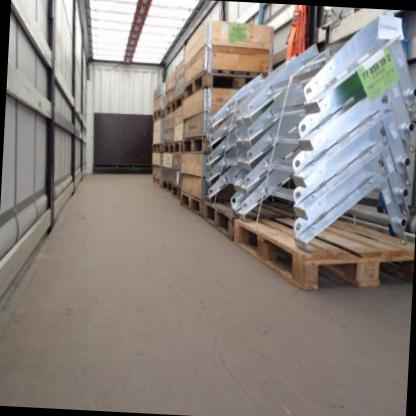pallet: (228, 213, 416, 302), (201, 198, 301, 245), (181, 64, 276, 109), (176, 187, 206, 218), (163, 89, 184, 119), (181, 136, 206, 156), (159, 176, 180, 199), (163, 136, 182, 155), (151, 104, 163, 123), (151, 140, 162, 154), (151, 174, 162, 188)
